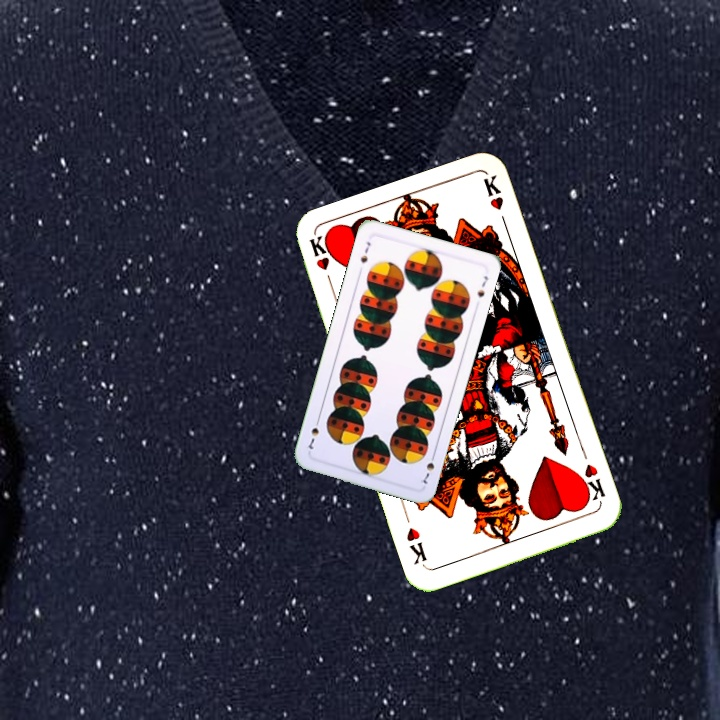HK: (305, 233, 337, 292), (574, 460, 608, 506)
S7: (416, 449, 438, 486), (356, 238, 373, 265)
